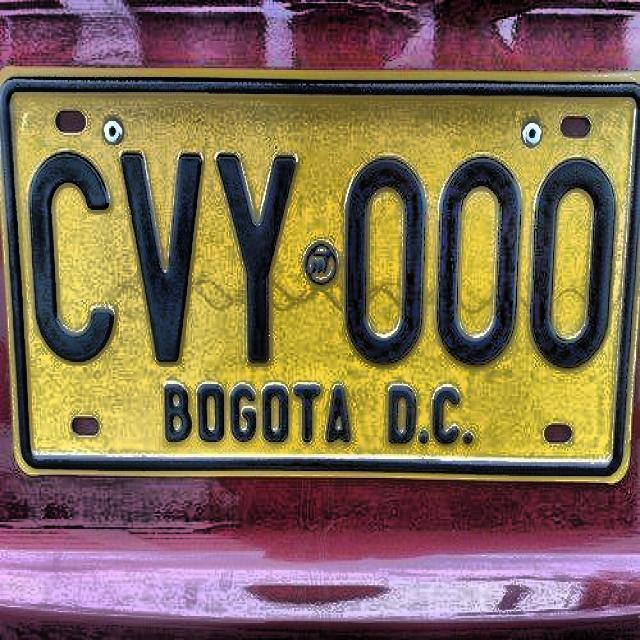plate: (3, 73, 637, 477)
